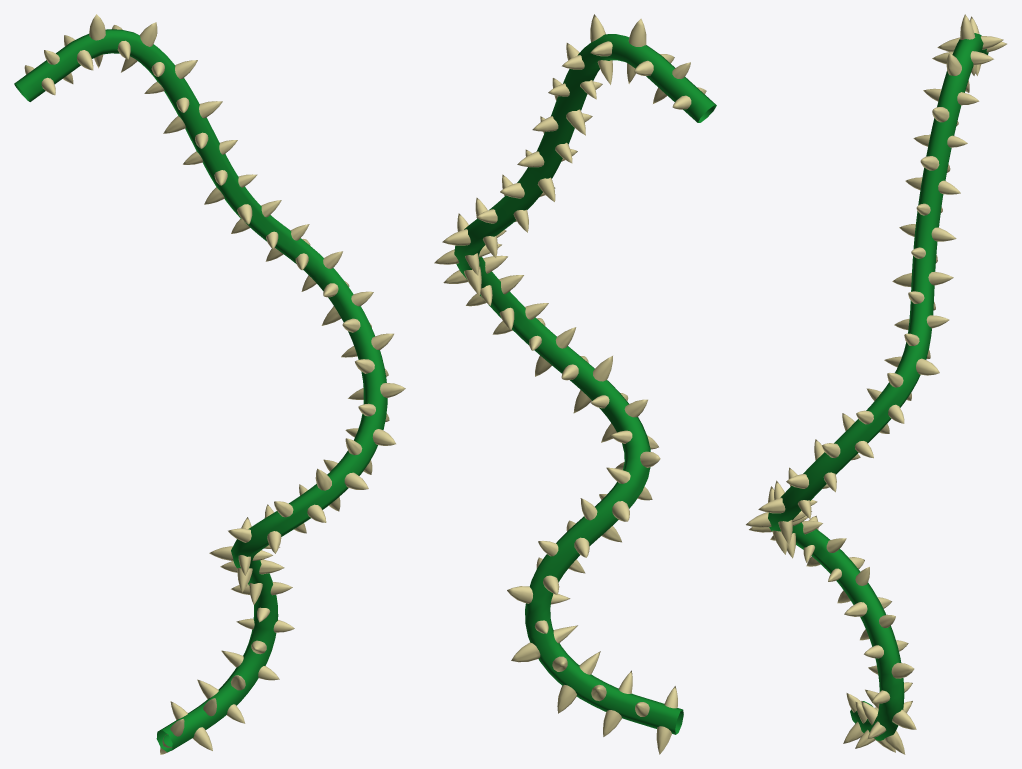
The model's file is Vine_A.fbx.
3 views of the same model, side by side, from view 1: azimuth 30°, elevation 25°; view 2: azimuth 150°, elevation 25°; view 3: azimuth 270°, elevation 25° (orthographic). The views are drawn at different scales.
Visible parts, largest first — view 1: Vine_A; view 2: Vine_A; view 3: Vine_A.
Part boxes in pixels (x1,y1,x2,y2): Vine_A: (14,14,405,754); Vine_A: (434,14,716,754); Vine_A: (746,14,1006,754).
Size of the model in its own units: 837 by 631 by 1896.
